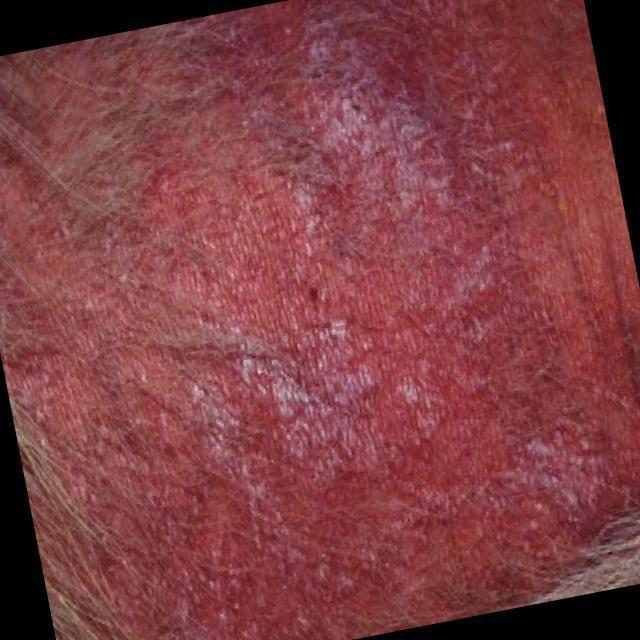fungal infection: (21, 0, 600, 617)
